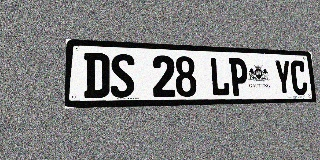2: (153, 55, 175, 97)
8: (175, 56, 197, 97)
C: (290, 60, 308, 95)
D: (84, 53, 109, 98)
L: (209, 57, 230, 96)
P: (229, 58, 249, 96)
S: (110, 53, 135, 98)
Y: (274, 60, 292, 95)
